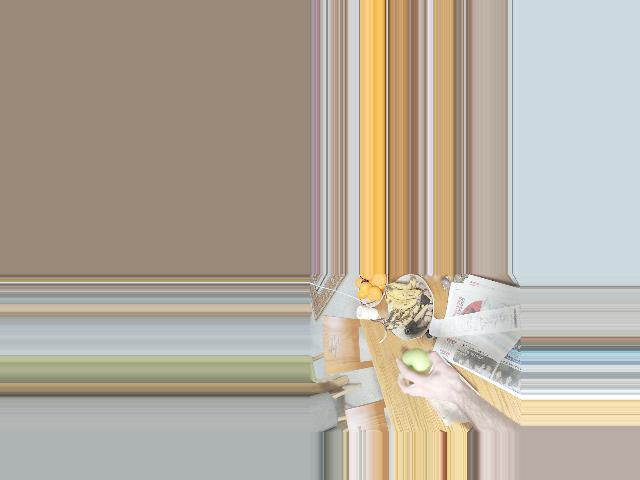apple: (395, 350, 438, 381)
